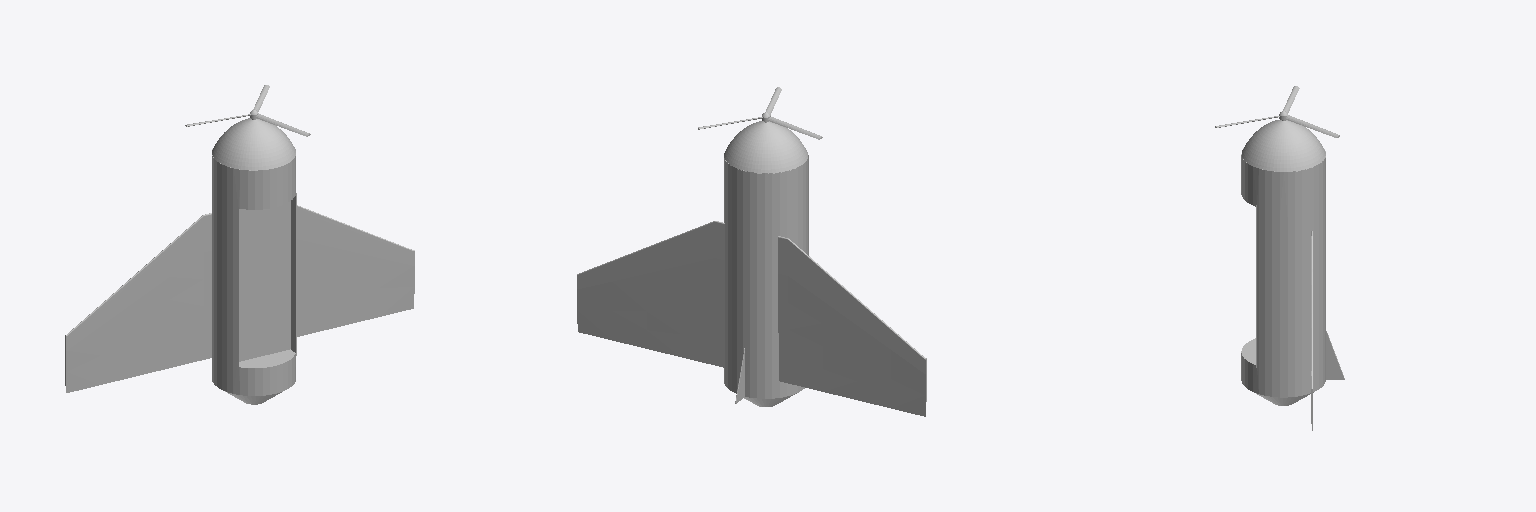
Rendered from assem for jatin.obj.
3 views of the same model, side by side, from view 1: azimuth 30°, elevation 25°; view 2: azimuth 150°, elevation 25°; view 3: azimuth 270°, elevation 25° (orthographic).
Visible parts, largest first — view 1: mesh 2 Boss-Extrude2[3], mesh 3 Cut-Extrude20 face, mesh 6 Boss-Extrude4[3]; view 2: mesh 2 Boss-Extrude2[3], mesh 3 Cut-Extrude20 face, mesh 6 Boss-Extrude4[3]; view 3: mesh 3 Cut-Extrude20 face, mesh 2 Boss-Extrude2[3], mesh 6 Boss-Extrude4[3].
Part boxes in pixels (bbox=[...]): mesh 2 Boss-Extrude2[3]: bbox=[65, 149, 414, 392]; mesh 3 Cut-Extrude20 face: bbox=[212, 118, 295, 404]; mesh 6 Boss-Extrude4[3]: bbox=[185, 85, 310, 136]; mesh 2 Boss-Extrude2[3]: bbox=[577, 160, 926, 416]; mesh 3 Cut-Extrude20 face: bbox=[724, 121, 808, 406]; mesh 6 Boss-Extrude4[3]: bbox=[698, 87, 822, 139]; mesh 3 Cut-Extrude20 face: bbox=[1241, 120, 1325, 405]; mesh 2 Boss-Extrude2[3]: bbox=[1241, 148, 1325, 430]; mesh 6 Boss-Extrude4[3]: bbox=[1215, 86, 1339, 137].
Size of the model in its own units: 0.76 by 0.6046 by 0.2461.